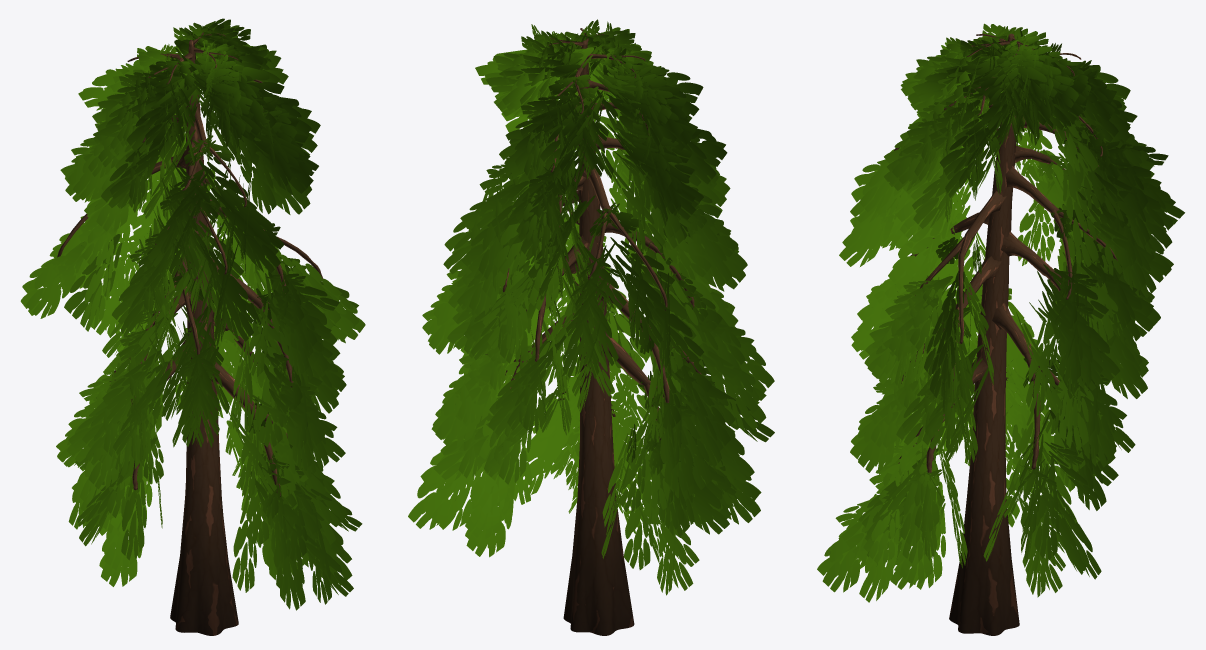
Rendered from GiantPine_1.gltf.
3 views of the same model, side by side, from view 1: azimuth 30°, elevation 25°; view 2: azimuth 150°, elevation 25°; view 3: azimuth 270°, elevation 25° (orthographic). The views are drawn at different scales.
Visible parts, largest first — view 1: GiantPine_1; view 2: GiantPine_1; view 3: GiantPine_1.
Part boxes in pixels (x1=…): GiantPine_1: x1=20, y1=18, x2=365, y2=635; GiantPine_1: x1=408, y1=19, x2=774, y2=635; GiantPine_1: x1=817, y1=23, x2=1184, y2=635.
Size of the model in its own units: 9.19 by 17.17 by 9.94.
Materials: 2 (2 with a texture image).
